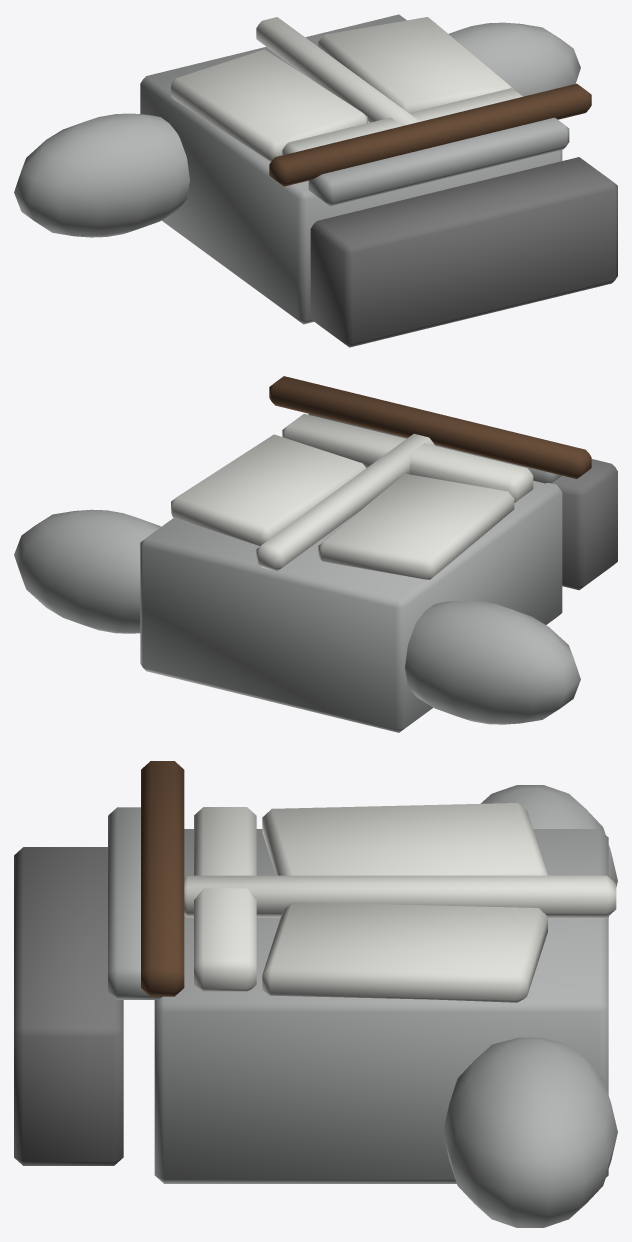
Rendered from armor_plate_armor.glb.
The picture shows the model from 3 angles, top to bottom: view 1: azimuth 30°, elevation 25°; view 2: azimuth 150°, elevation 25°; view 3: azimuth 270°, elevation 25°; orthographic projection. The views are drawn at different scales.
Visible parts, largest first — view 1: armor_plate_armor; view 2: armor_plate_armor; view 3: armor_plate_armor.
Boxes of the visible parts, box(x1,y1,x2,y2) form: armor_plate_armor: box(14, 14, 617, 347); armor_plate_armor: box(14, 376, 617, 732); armor_plate_armor: box(14, 761, 617, 1227).
Size of the model in its own units: 1.13 by 0.3325 by 0.772.
